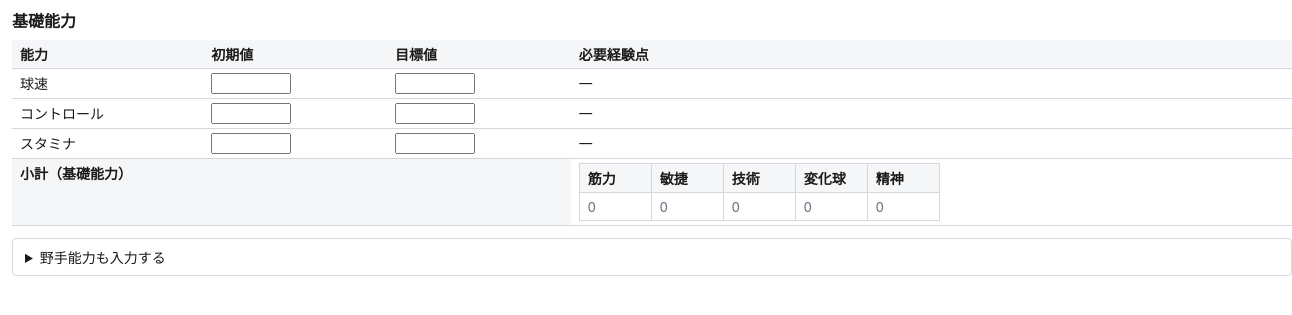
BaseAbilityTab › UI-T2-04: 目標値が初期値未満なら赤枠とメッセージを出す
In the number field with test id "base-current-velocity": point(251, 84) [211,73,291,94], type "140"
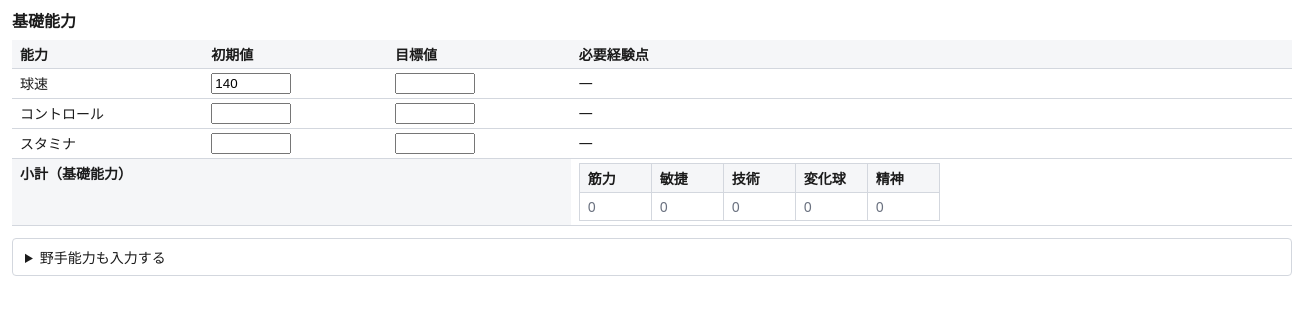
In the number field with test id "base-target-velocity": point(435, 84) [395,73,475,94], type "130"
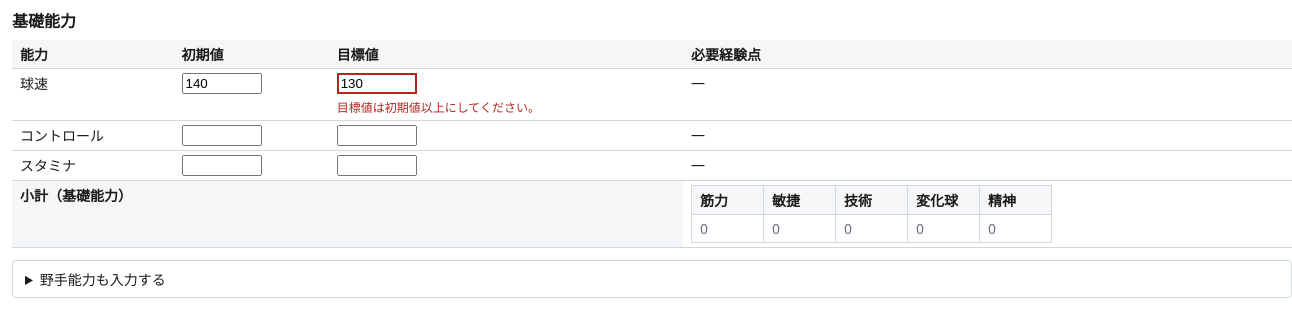
Result: the text with test id "base-target-error-velocity" reads "目標値は初期値以上にしてください。" at [337,99,540,116]
